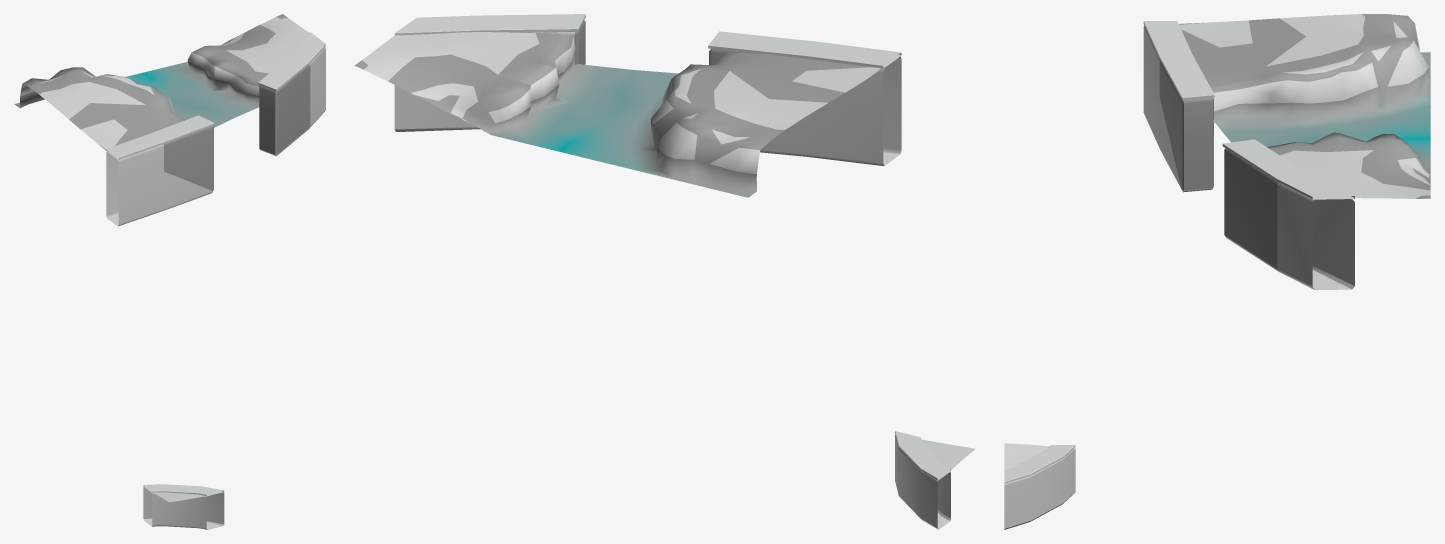
3 renders of one model, left to right at view 1: azimuth 30°, elevation 25°; view 2: azimuth 150°, elevation 25°; view 3: azimuth 270°, elevation 25°, orthographic. The views are drawn at different scales.
Parts seen in each view (by area): view 1: G:\FFXIV-MapTools\exports\n5f1\bg\ex4\01_nvt_n5\fld\n5f1\bgp (×13); view 2: G:\FFXIV-MapTools\exports\n5f1\bg\ex4\01_nvt_n5\fld\n5f1\bgp (×16); view 3: G:\FFXIV-MapTools\exports\n5f1\bg\ex4\01_nvt_n5\fld\n5f1\bgp (×15).
Part boxes in pixels (left/top/right/bottom): G:\FFXIV-MapTools\exports\n5f1\bg\ex4\01_nvt_n5\fld\n5f1\bgp (×13): left=14, top=14, right=325, bottom=529; G:\FFXIV-MapTools\exports\n5f1\bg\ex4\01_nvt_n5\fld\n5f1\bgp (×16): left=354, top=14, right=975, bottom=529; G:\FFXIV-MapTools\exports\n5f1\bg\ex4\01_nvt_n5\fld\n5f1\bgp (×15): left=1004, top=14, right=1430, bottom=529.
Size of the model in its own units: 128 by 160 by 128.
